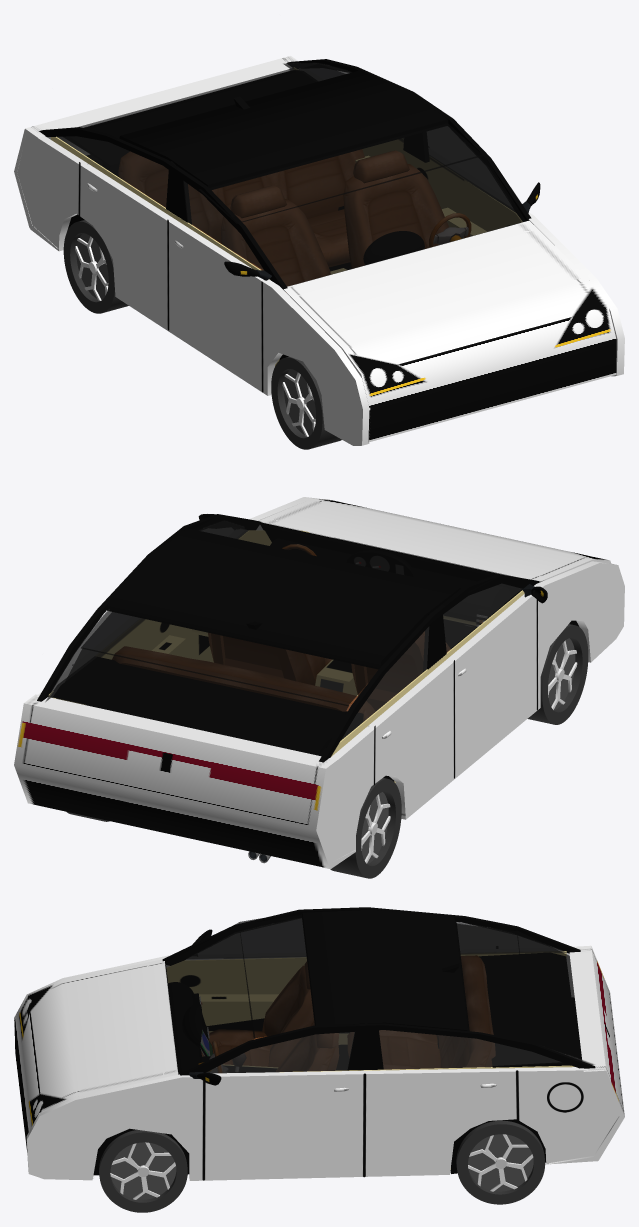
Rendered from sedan_glb_format_with_interior.glb.
3 views of the same model, one above another, from view 1: azimuth 30°, elevation 25°; view 2: azimuth 150°, elevation 25°; view 3: azimuth 270°, elevation 25° (orthographic). The views are drawn at different scales.
Visible parts, largest first — view 1: node_id1935_416, node_id2543_345, node_id2756_468, node_id1932_365, node_id1933_420, node_id583_460, node_id446_234, node_id586_355, node_id1899_411, node_id1911_176, node_id1913_160, node_id1912_371 (+14 smaller); view 2: node_id1913_160, node_id2543_345, node_id2756_468, node_id1914_471, node_id1911_176, node_id1912_371, node_id1935_416, node_id1933_420, node_id1899_411, node_id428_466, node_id446_234, node_id1934_422 (+15 smaller); view 3: node_id2736_162, node_id1935_416, node_id2756_468, node_id1932_365, node_id1911_176, node_id1927_269, node_id1933_420, node_id1912_371, node_id1914_471, node_id1913_160, node_id1899_411, node_id1901_373 (+18 smaller).
Part boxes in pixels (x1,y1,x2,y2): node_id1935_416: (283, 220, 616, 442); node_id2543_345: (17, 136, 370, 445); node_id2756_468: (119, 70, 448, 189); node_id1932_365: (239, 154, 525, 286); node_id1933_420: (199, 123, 482, 223); node_id583_460: (118, 149, 363, 266); node_id446_234: (343, 151, 448, 268); node_id586_355: (221, 186, 330, 292); node_id1899_411: (57, 136, 263, 270); node_id1911_176: (64, 70, 314, 176); node_id1913_160: (14, 56, 297, 248); node_id1912_371: (84, 64, 345, 138); node_id1913_160: (14, 694, 355, 868); node_id2543_345: (319, 561, 624, 869); node_id2756_468: (107, 528, 460, 669); node_id1914_471: (56, 647, 348, 756); node_id1911_176: (50, 657, 363, 755); node_id1912_371: (81, 612, 378, 705); node_id1935_416: (259, 498, 611, 581); node_id1933_420: (193, 515, 502, 592); node_id1899_411: (341, 583, 521, 740); node_id428_466: (112, 646, 351, 711); node_id446_234: (208, 633, 331, 685); node_id1934_422: (259, 522, 521, 648); node_id2736_162: (26, 1067, 618, 1180); node_id1935_416: (14, 959, 178, 1178); node_id2756_468: (302, 909, 469, 1031); node_id1932_365: (166, 922, 255, 1073); node_id1911_176: (479, 953, 581, 1067); node_id1927_269: (206, 1030, 594, 1073); node_id1933_420: (238, 914, 315, 1038); node_id1912_371: (457, 923, 530, 1041); node_id1914_471: (516, 930, 581, 1060); node_id1913_160: (549, 945, 624, 1164); node_id1899_411: (188, 918, 566, 958); node_id1901_373: (166, 951, 566, 1044).
Size of the model in its own units: 0.9259 by 0.537 by 1.64.
Materials: 44 (44 with a texture image).
